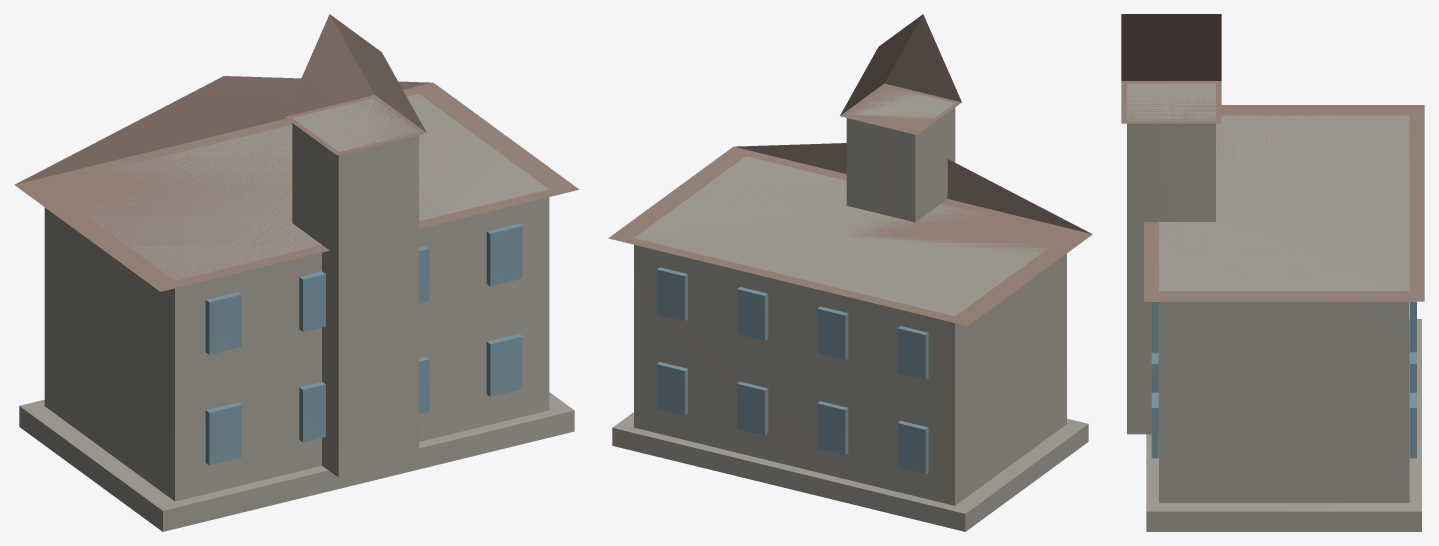
File: church-03.glb
The picture shows the model from 3 angles, left to right: view 1: azimuth 30°, elevation 25°; view 2: azimuth 150°, elevation 25°; view 3: azimuth 270°, elevation 25°; orthographic projection. The views are drawn at different scales.
Parts seen in each view (by area): view 1: world; view 2: world; view 3: world.
Part boxes in pixels (left/top/right/bottom): world: left=14, top=14, right=579, bottom=531; world: left=608, top=14, right=1092, bottom=531; world: left=1121, top=14, right=1424, bottom=531.
Size of the model in its own units: 1.67 by 1.67 by 1.09.
